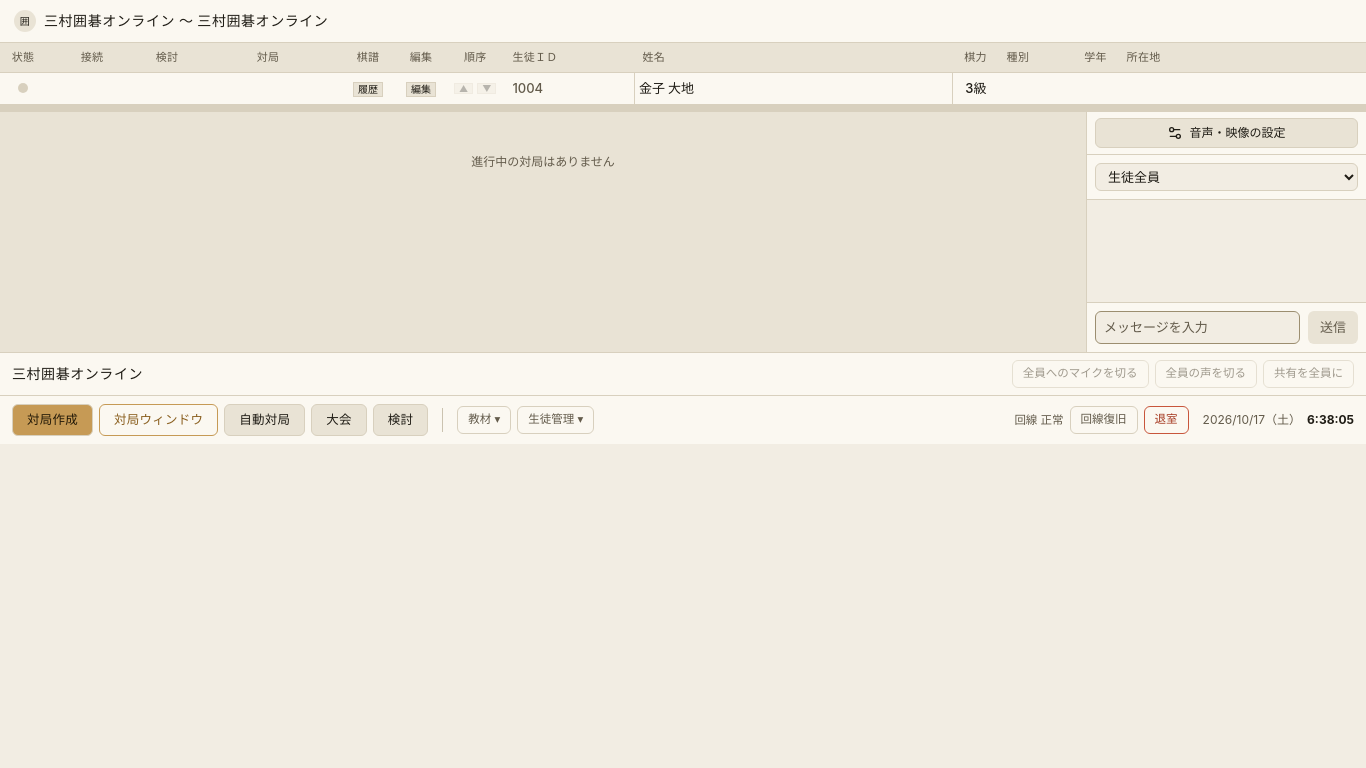
TeacherDashboard 棋譜履歴の一括削除 › 消せなかった棋譜は選んだまま残す
Click the button "履歴".
click(368, 90)  # box [353,82,383,97]
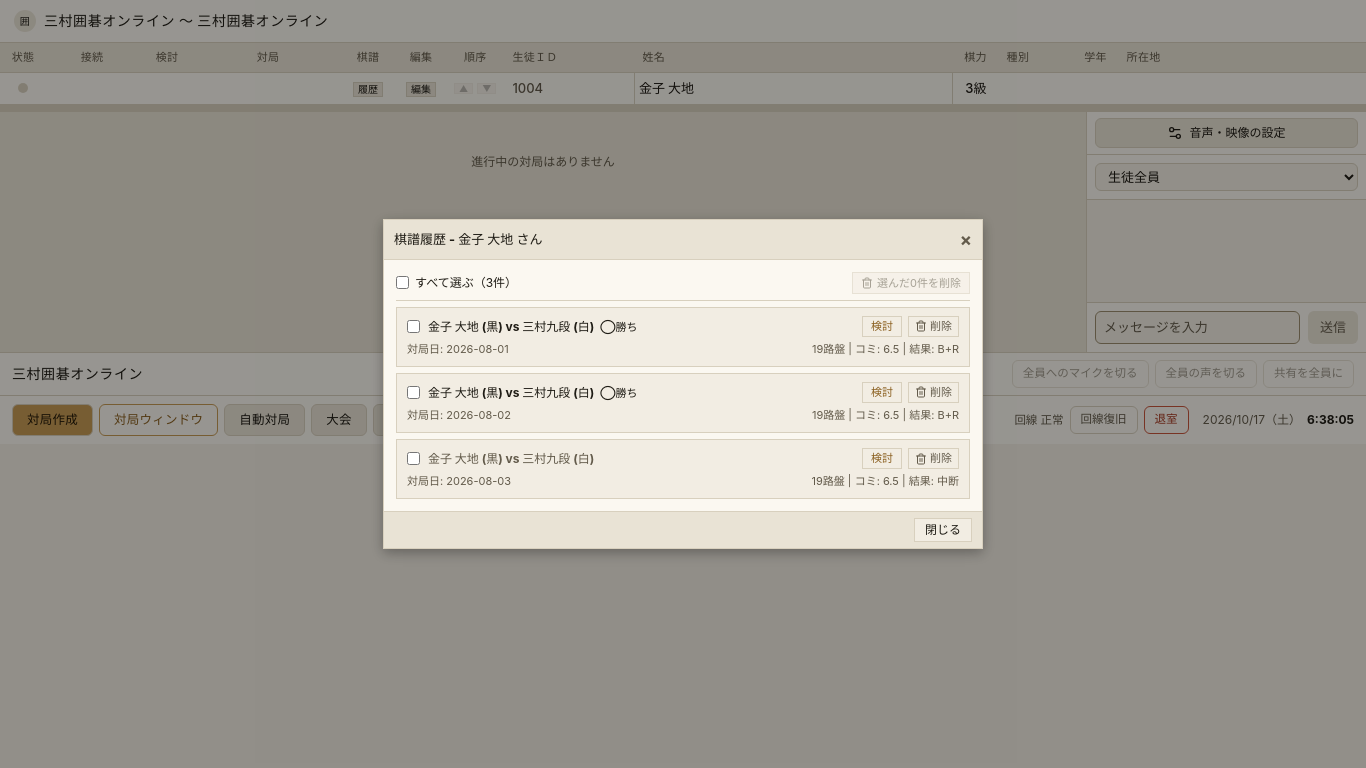
Now the text "棋譜履歴 - 金子 大地 さん" is shown, box [394,229,542,250]
Click the checkbox named "すべての棋譜を選ぶ".
click(402, 283)  # box [396,276,409,289]
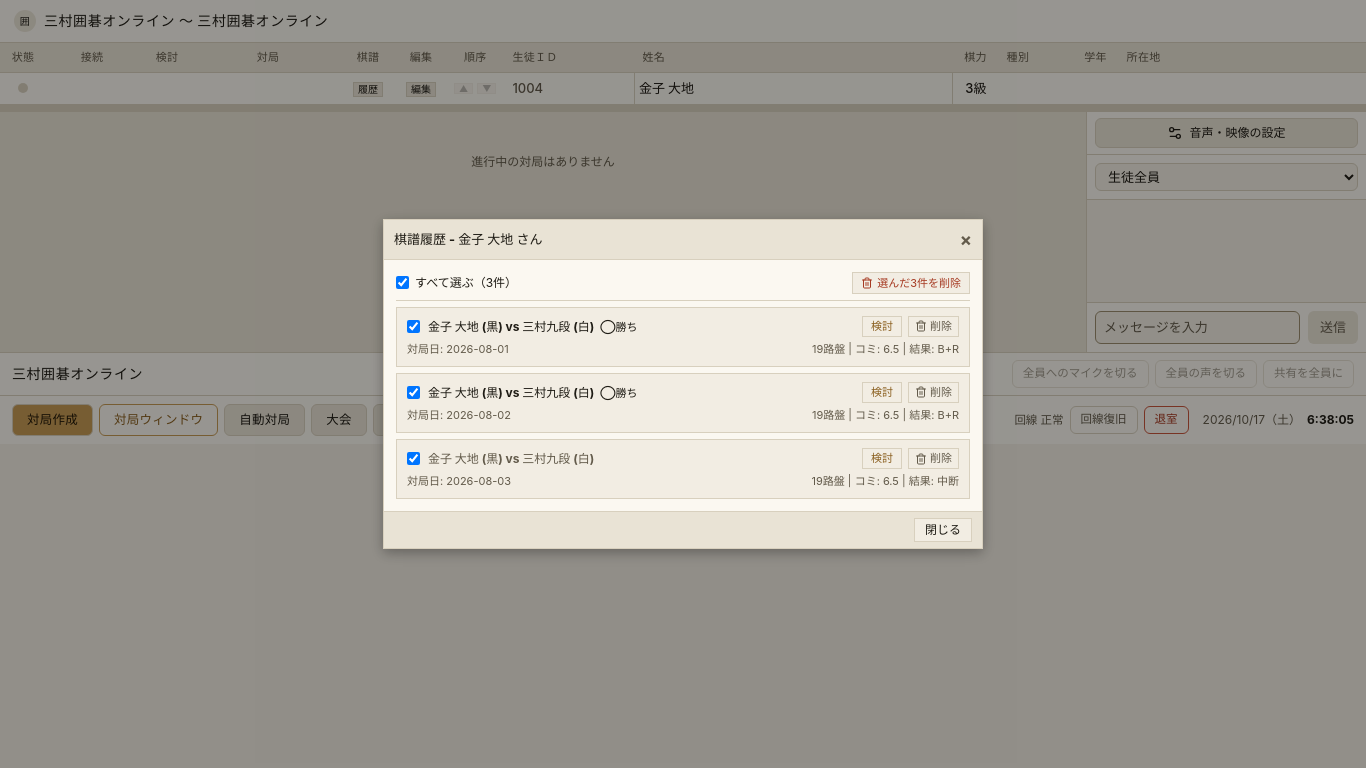
Click the button "選んだ3件を削除".
click(911, 283)  # box [852,272,970,294]
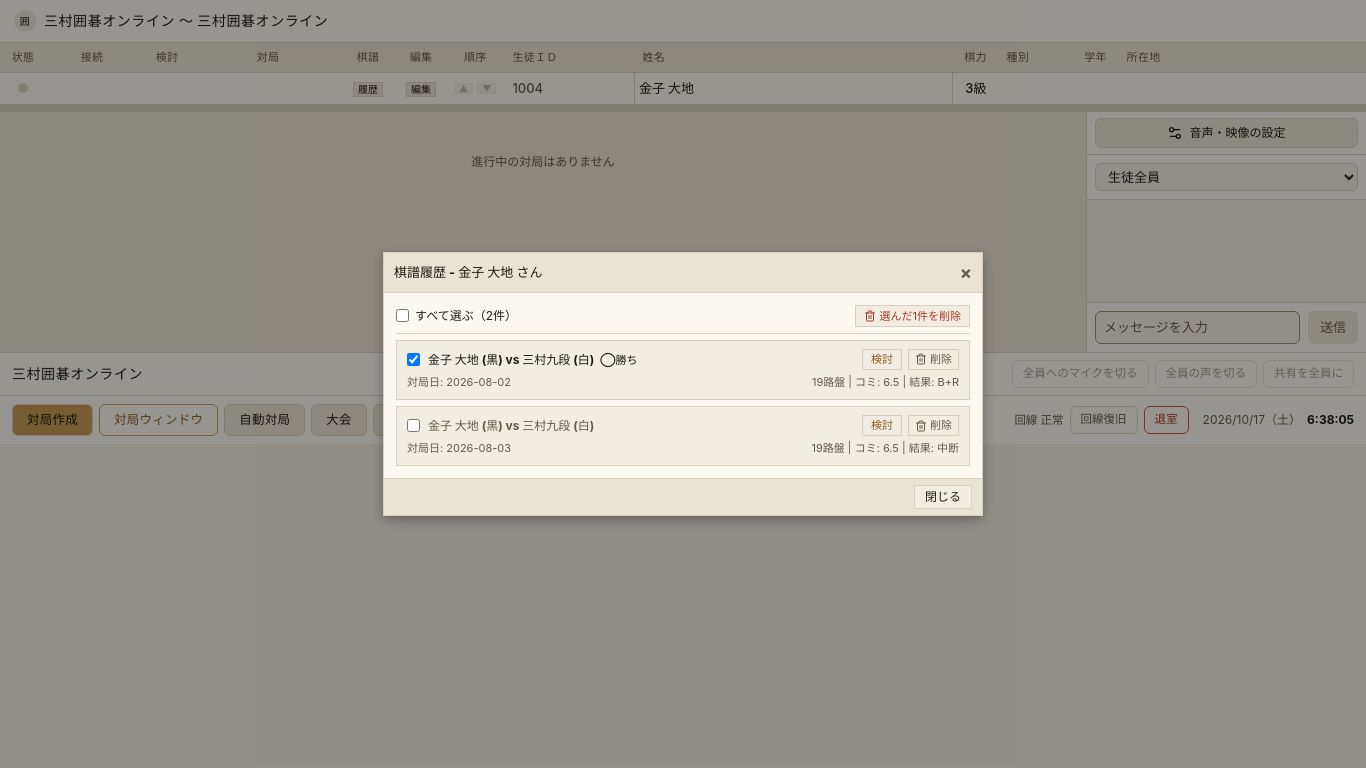
Now the checkbox named "2026-08-02の棋譜を選ぶ" is checked, box [407,353,420,366]
Now the button "選んだ1件を削除" is shown, box [854,305,970,327]
Now the checkbox named "2026-08-03の棋譜を選ぶ" is not checked, box [407,419,420,432]
